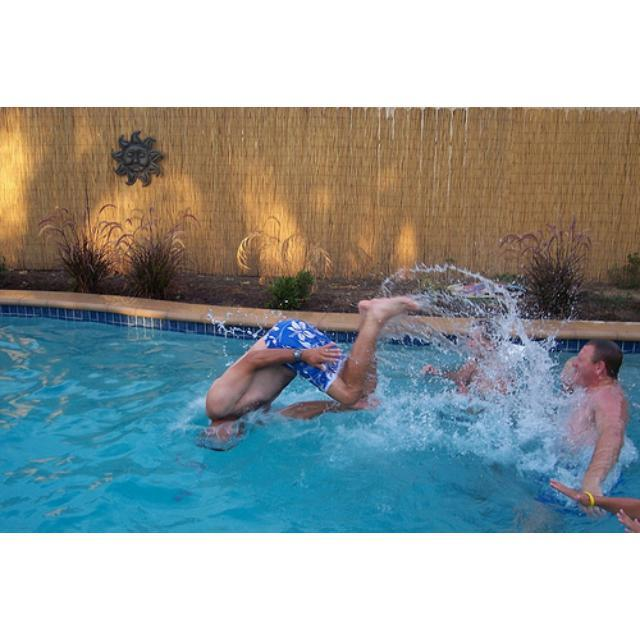human: (203, 293, 406, 450), (544, 340, 628, 506), (424, 312, 511, 397)
